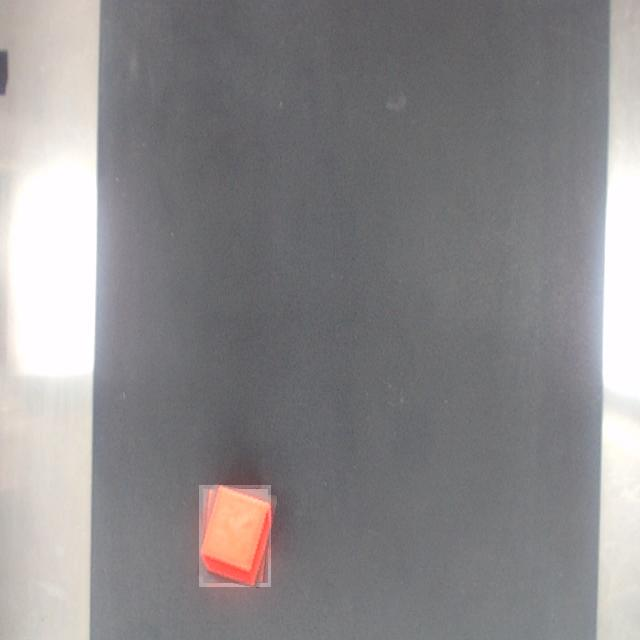Rojo: (200, 485, 271, 587)
